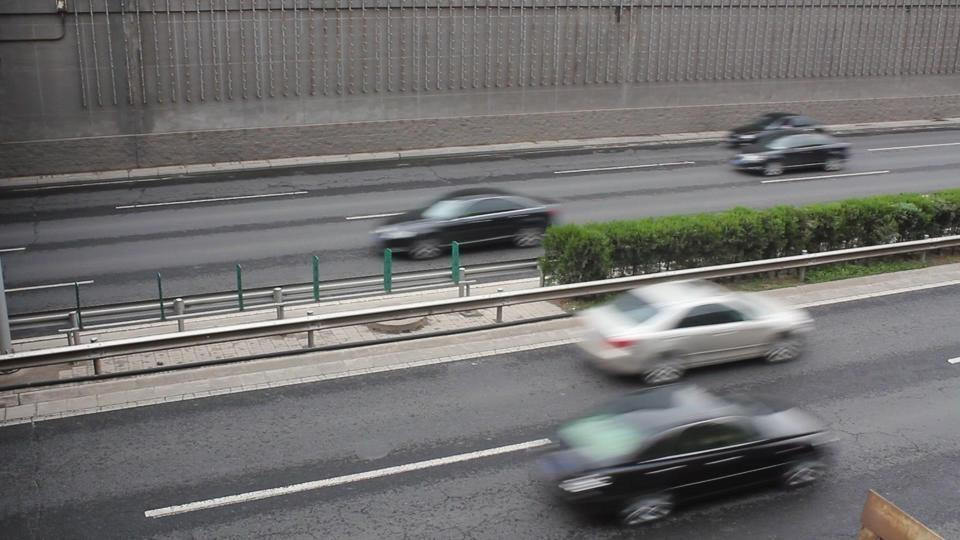car: (528, 382, 842, 528), (572, 282, 817, 385), (365, 190, 562, 260), (722, 112, 845, 157), (727, 132, 850, 177)
